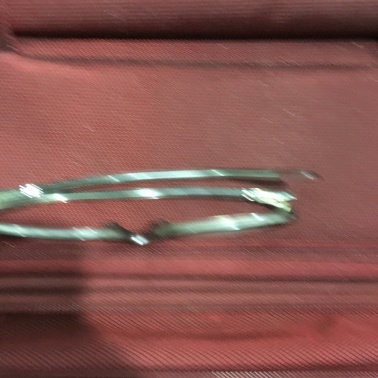glasses: (10, 163, 344, 254)
